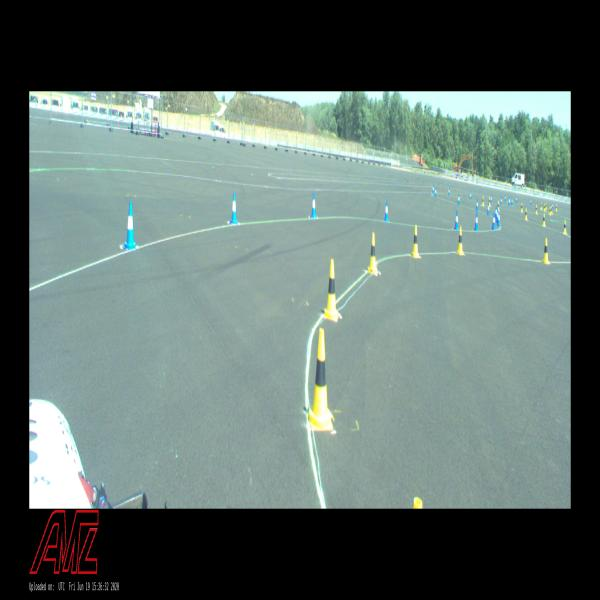blue_cone: (122, 202, 136, 250), (229, 192, 238, 225), (310, 193, 316, 219), (384, 200, 389, 222), (454, 210, 459, 230), (474, 212, 479, 231), (492, 212, 496, 230), (497, 211, 501, 227), (487, 203, 490, 215), (457, 194, 460, 204), (476, 198, 478, 212), (496, 209, 498, 222), (495, 206, 497, 218), (432, 184, 434, 195), (490, 194, 492, 204), (434, 187, 436, 197), (448, 187, 450, 196), (508, 197, 510, 205), (511, 198, 513, 206), (552, 203, 554, 209), (470, 191, 471, 200), (501, 196, 502, 205), (505, 194, 506, 202), (530, 199, 531, 205), (516, 197, 517, 203)
yellow_cone: (309, 328, 333, 432), (324, 259, 338, 321), (368, 231, 378, 276), (412, 225, 419, 258), (457, 226, 464, 255), (543, 238, 549, 264), (563, 221, 567, 234), (542, 214, 546, 226), (497, 200, 500, 211), (535, 205, 538, 214), (525, 209, 527, 220), (482, 195, 484, 206), (489, 197, 491, 207), (521, 203, 523, 212), (549, 207, 551, 215), (551, 206, 553, 214), (540, 202, 542, 210), (544, 204, 545, 212), (556, 204, 557, 211), (546, 203, 546, 209)
